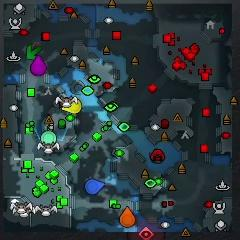p1: (85, 179, 104, 194)
p2: (41, 131, 57, 145)
p3: (31, 56, 45, 76)
p4: (61, 99, 82, 113)
p5: (120, 207, 135, 227)
x4: (26, 44, 42, 60)
